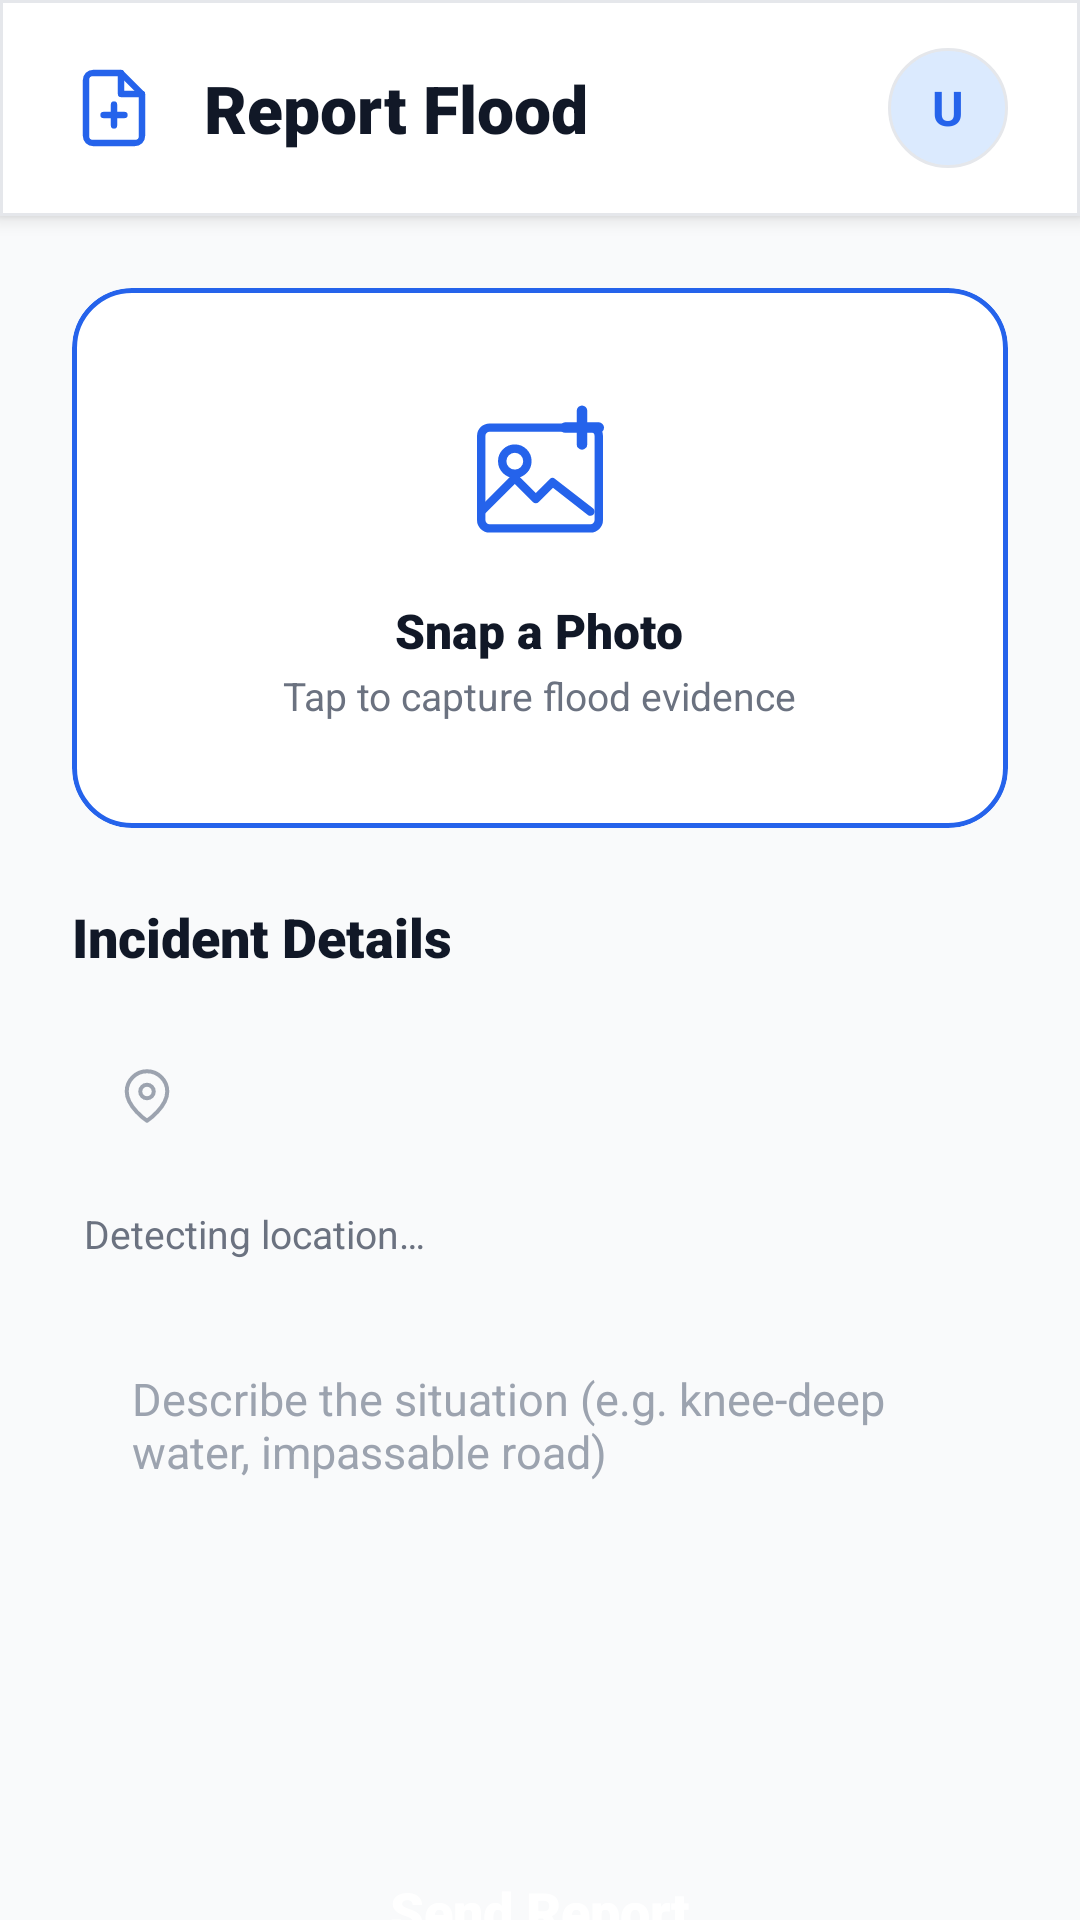

Named icons in this screenshot (1080 x 1920) and their centers, [x,y]:
Upload Photo: [540,469]
